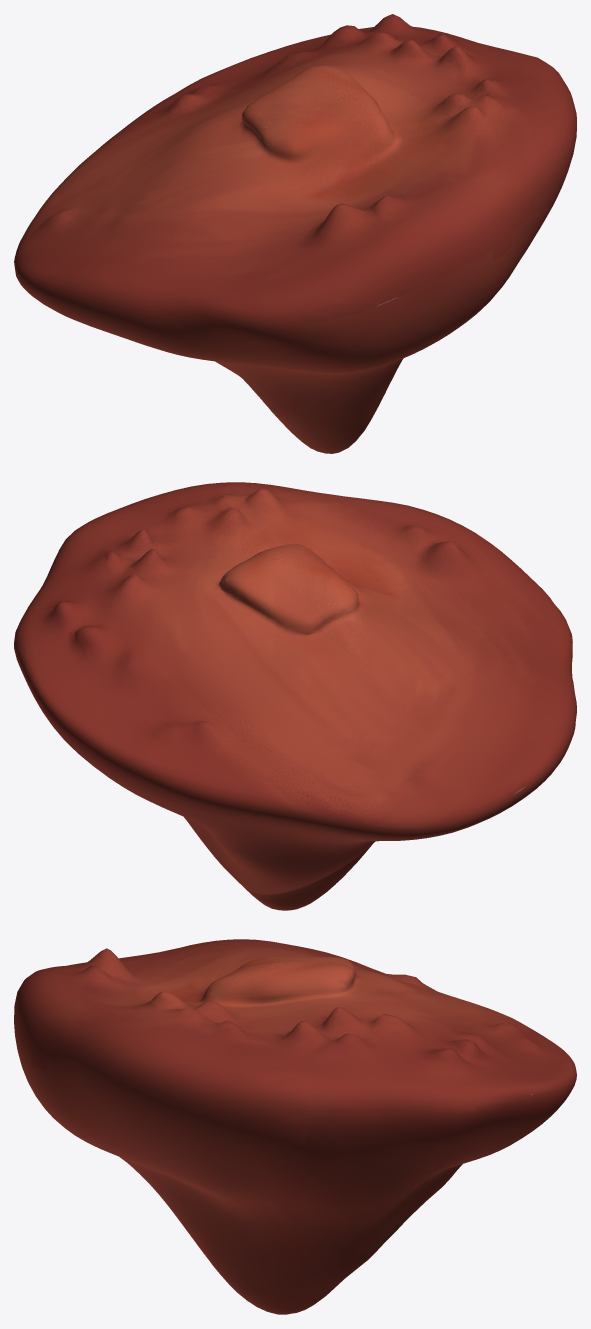
Rendered from Island.fbx.
3 renders of one model, top to bottom at view 1: azimuth 30°, elevation 25°; view 2: azimuth 150°, elevation 25°; view 3: azimuth 270°, elevation 25°, orthographic. The views are drawn at different scales.
Parts seen in each view (by area): view 1: Island_01; view 2: Island_01; view 3: Island_01.
Part boxes in pixels (<box>): Island_01: <box>14,14,576,453</box>; Island_01: <box>14,482,576,910</box>; Island_01: <box>14,939,576,1314</box>.
Bounding box in the file's own units: 1.27 × 0.8752 × 1.23.
